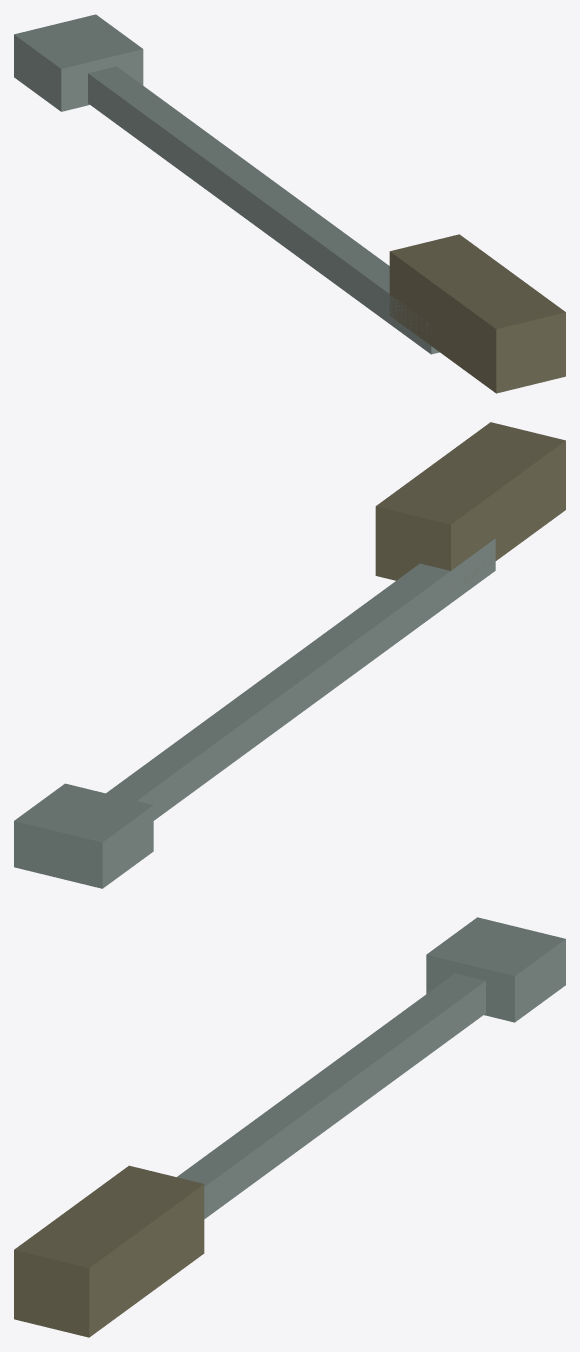
File: SM_Semaforo_v4_Caido_LOD0.fbx
The picture shows the model from 3 angles, top to bottom: view 1: azimuth 30°, elevation 25°; view 2: azimuth 150°, elevation 25°; view 3: azimuth 330°, elevation 25°; orthographic projection. The views are drawn at different scales.
Visible parts, largest first — view 1: SM_urbano_extra_v24_LOD0; view 2: SM_urbano_extra_v24_LOD0; view 3: SM_urbano_extra_v24_LOD0.
Part boxes in pixels (box(x1,y1,x2,y2)): SM_urbano_extra_v24_LOD0: box(14, 14, 565, 393); SM_urbano_extra_v24_LOD0: box(14, 422, 565, 888); SM_urbano_extra_v24_LOD0: box(14, 917, 565, 1337).
Size of the model in its own units: 0.47 by 0.35 by 3.85.
